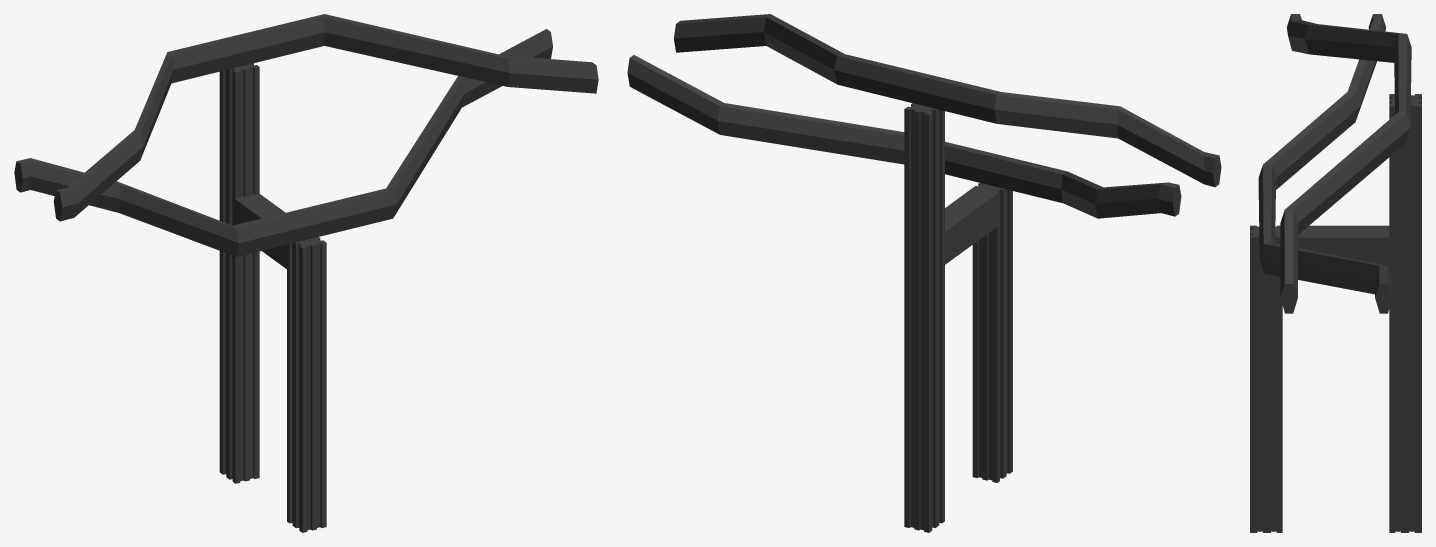
3 renders of one model, left to right at view 1: azimuth 30°, elevation 25°; view 2: azimuth 150°, elevation 25°; view 3: azimuth 270°, elevation 25°, orthographic. The views are drawn at different scales.
Parts seen in each view (by area): view 1: 立方體.001; view 2: 立方體.001; view 3: 立方體.001.
Boxes of the visible parts, x1,y1,x2,y2 form: 立方體.001: (14,14,598,532); 立方體.001: (627,14,1221,532); 立方體.001: (1250,14,1421,532).
Size of the model in its own units: 10793 by 8509 by 2900.
1 material, 1 textured.
